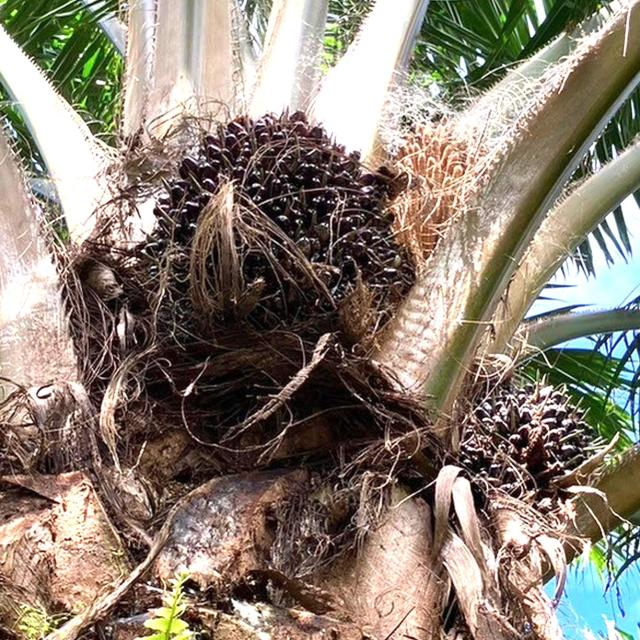ripe: (122, 100, 428, 414)
